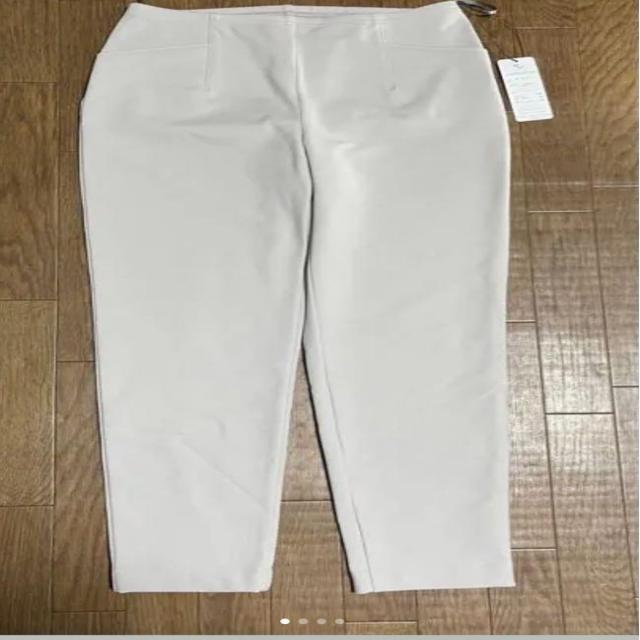long-pants: (79, 0, 517, 594)
